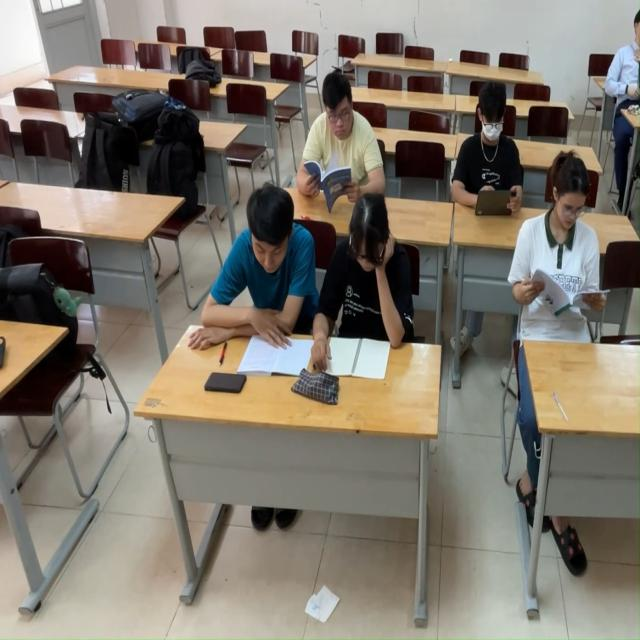read: (187, 186, 323, 385), (506, 148, 619, 373), (310, 181, 419, 389), (460, 79, 526, 231), (306, 82, 364, 206)
